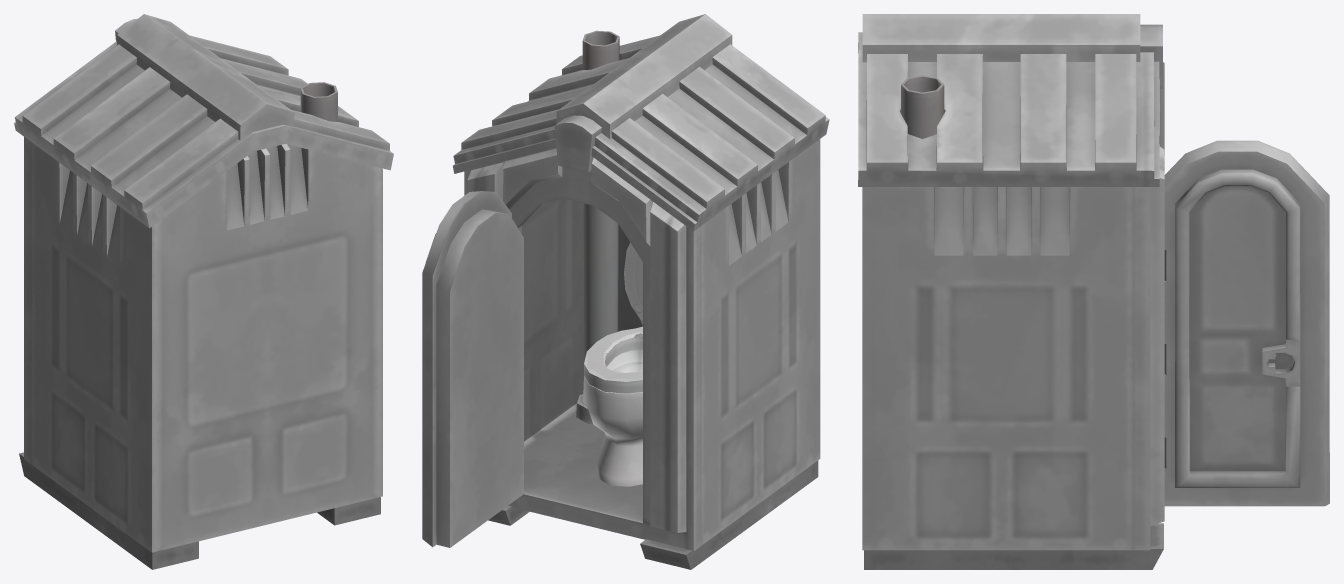
The model's file is Pfb_PortaPotty_Base.fbx.
The picture shows the model from 3 angles, left to right: view 1: azimuth 30°, elevation 25°; view 2: azimuth 150°, elevation 25°; view 3: azimuth 270°, elevation 25°; orthographic projection. The views are drawn at different scales.
Visible parts, largest first — view 1: Mat_PortaPotty, Mat_Indoors_WC_01; view 2: Mat_PortaPotty, Mat_Indoors_WC_01; view 3: Mat_PortaPotty, Mat_Indoors_WC_01.
Part boxes in pixels (x1,y1,x2,y2): Mat_PortaPotty: [14, 14, 393, 569]; Mat_Indoors_WC_01: [300, 82, 337, 121]; Mat_PortaPotty: [422, 14, 829, 569]; Mat_Indoors_WC_01: [576, 30, 642, 486]; Mat_PortaPotty: [858, 14, 1329, 569]; Mat_Indoors_WC_01: [901, 75, 944, 138].
Bounding box in the file's own units: 1.49 × 2.51 × 2.18.
2 materials, 2 textured.
